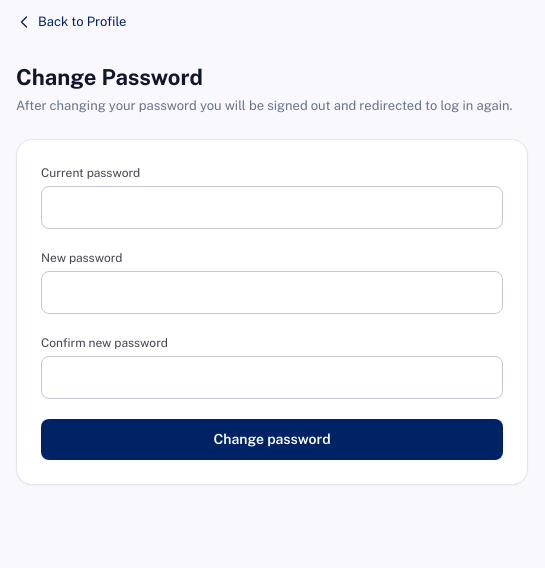
Test case: AC-07: ChangePasswordScreen shows "Current password is incorrect" on 401 › shows the 401 error message
Type "wrongpass" into the password field labelled "Current password" at coordinates (272, 208), box [41,186,503,229]
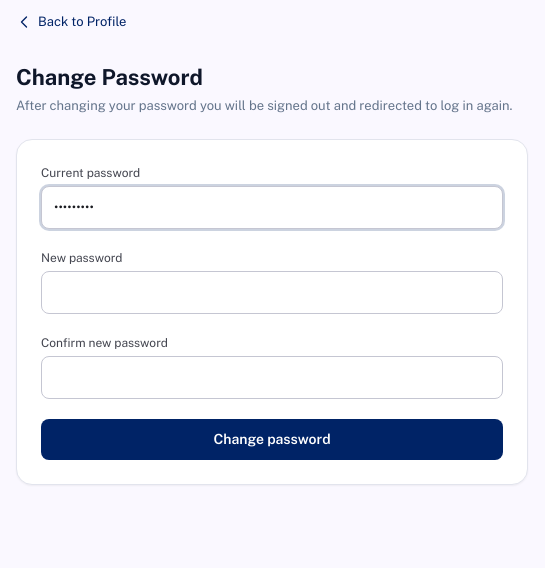
Type "Newpass123!" into the password field labelled "New password" at coordinates (272, 293), box [41,271,503,314]
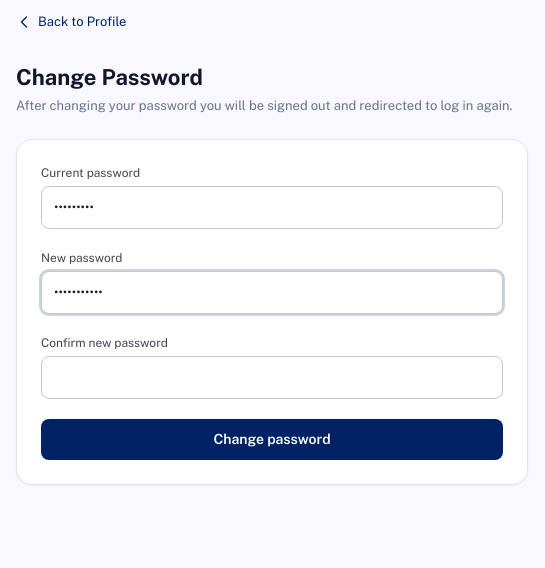
Type "Newpass123!" into the password field labelled "Confirm new password" at coordinates (272, 378), box [41,356,503,399]
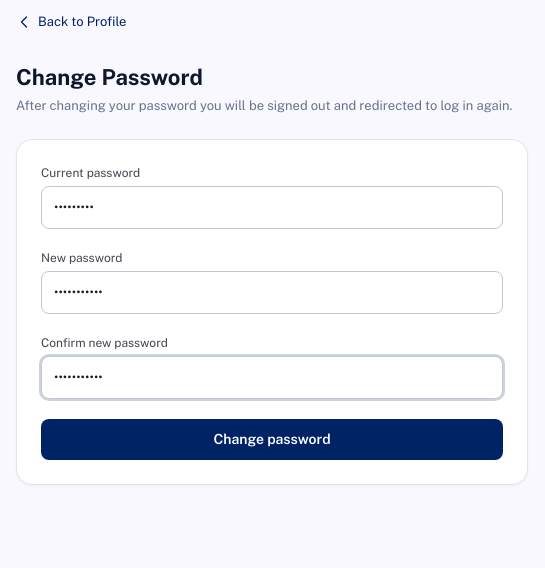
Click the button "Change password" at coordinates (272, 440), box [41,419,503,460]
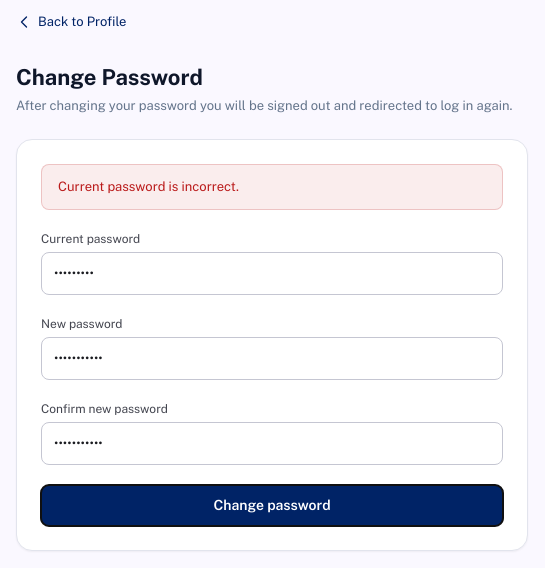
Expected: the text "Current password is incorrect." is shown, [41,164,503,210]
